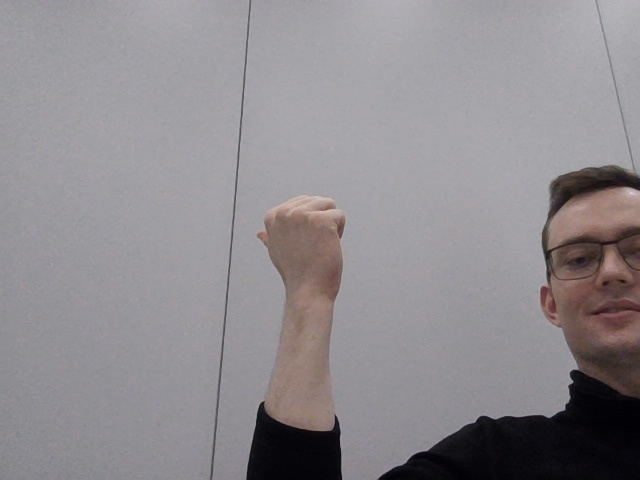right: (234, 184, 388, 329)
